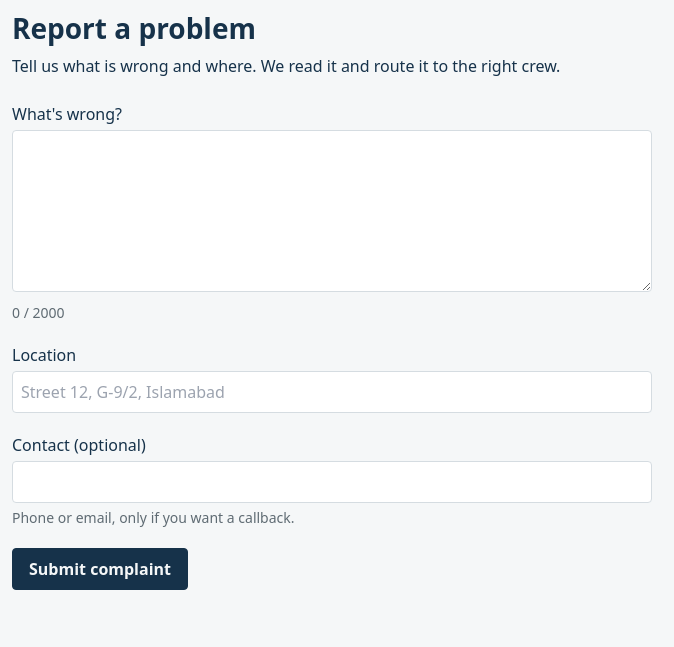
Scenario: 3. while pending, the button is disabled, aria-busy region is live, and elapsed time shows
Type "A burst pipe is flooding the whole street" into the text box labelled "What's wrong?". click: (332, 211)
box: top-left (12, 130), bottom-right (652, 292)
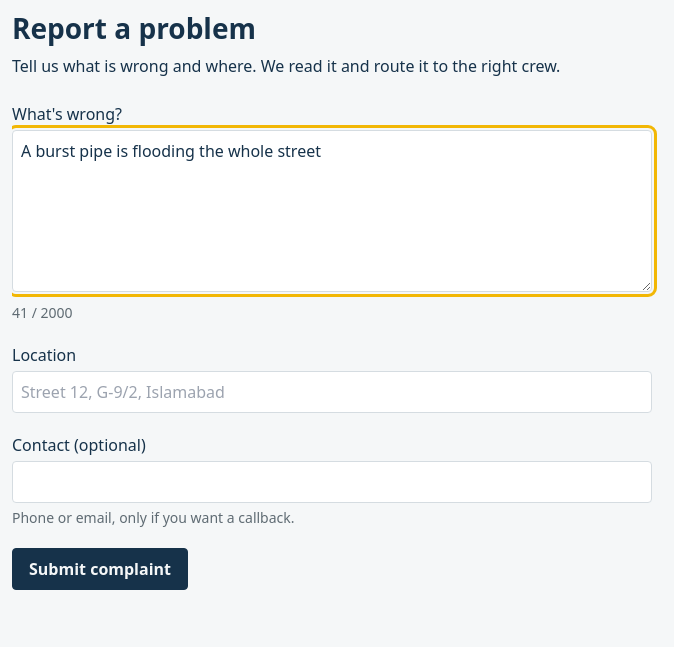
Type "Test Street 12" into the field labelled "Location". click: (332, 392)
box: top-left (12, 371), bottom-right (652, 413)
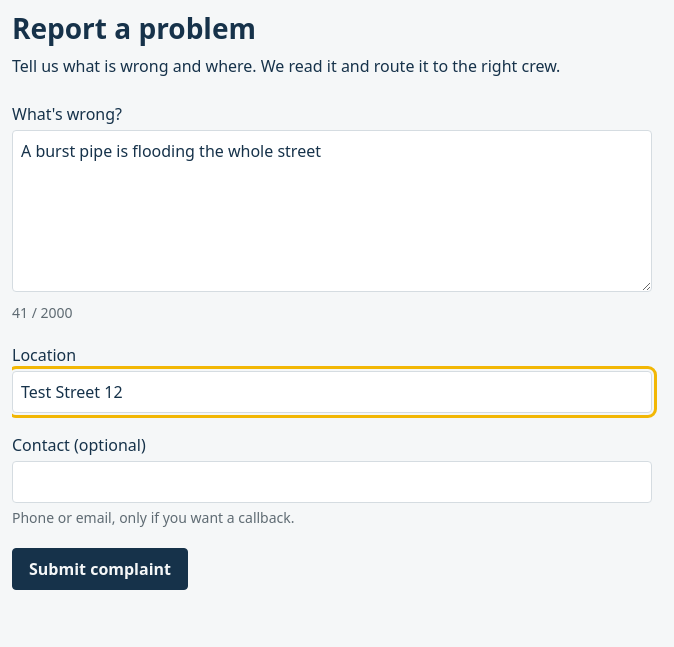
Click the button "Submit complaint". click: click(100, 569)
box: top-left (12, 548), bottom-right (188, 590)
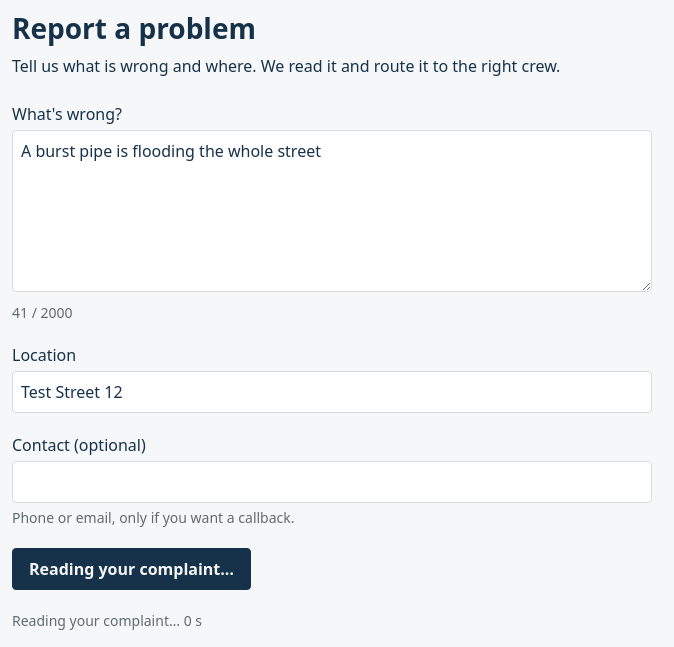
Check: the button "Reading your complaint…" is disabled, box top-left (12, 548), bottom-right (251, 590)
Check: the message reads "Reading your complaint… 0 s", box top-left (12, 611), bottom-right (202, 630)
